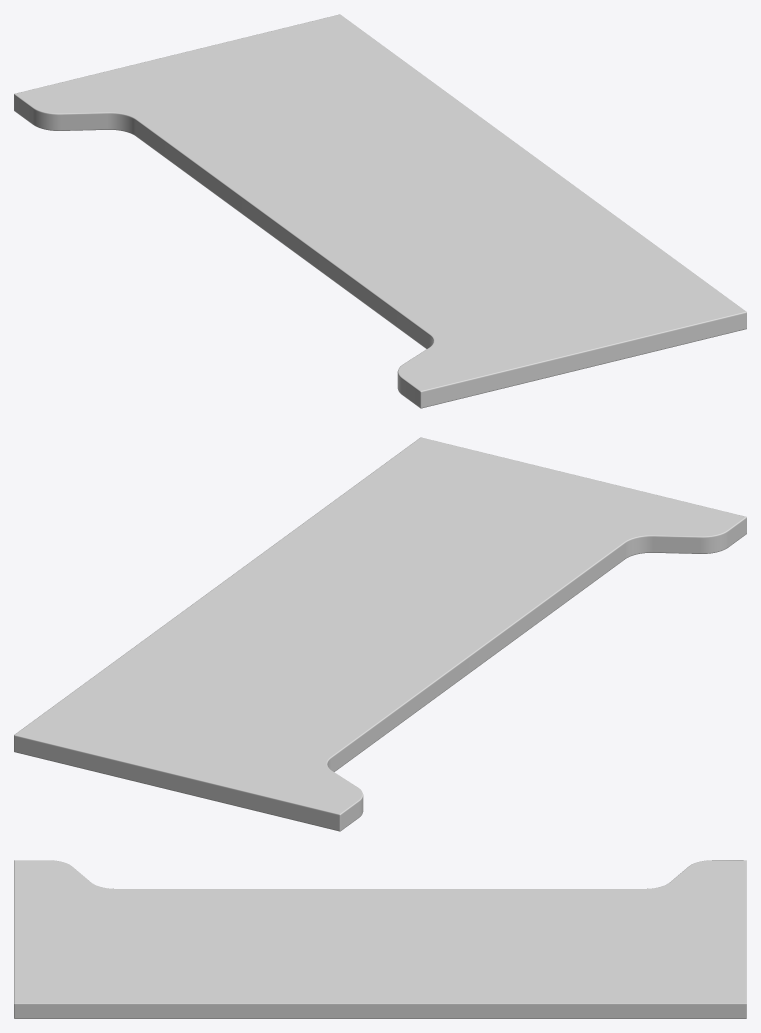
The model's file is ElementFocus-Table.glb.
3 renders of one model, top to bottom at view 1: azimuth 30°, elevation 25°; view 2: azimuth 150°, elevation 25°; view 3: azimuth 270°, elevation 25°, orthographic. The views are drawn at different scales.
Parts seen in each view (by area): view 1: Table.001; view 2: Table.001; view 3: Table.001.
Boxes of the visible parts, x1,y1,x2,y2 form: Table.001: [14, 14, 746, 408]; Table.001: [14, 437, 746, 831]; Table.001: [14, 860, 746, 1018].
Bounding box in the file's own units: 0.5 × 0.0254 × 1.08.
1 material, 1 textured.
